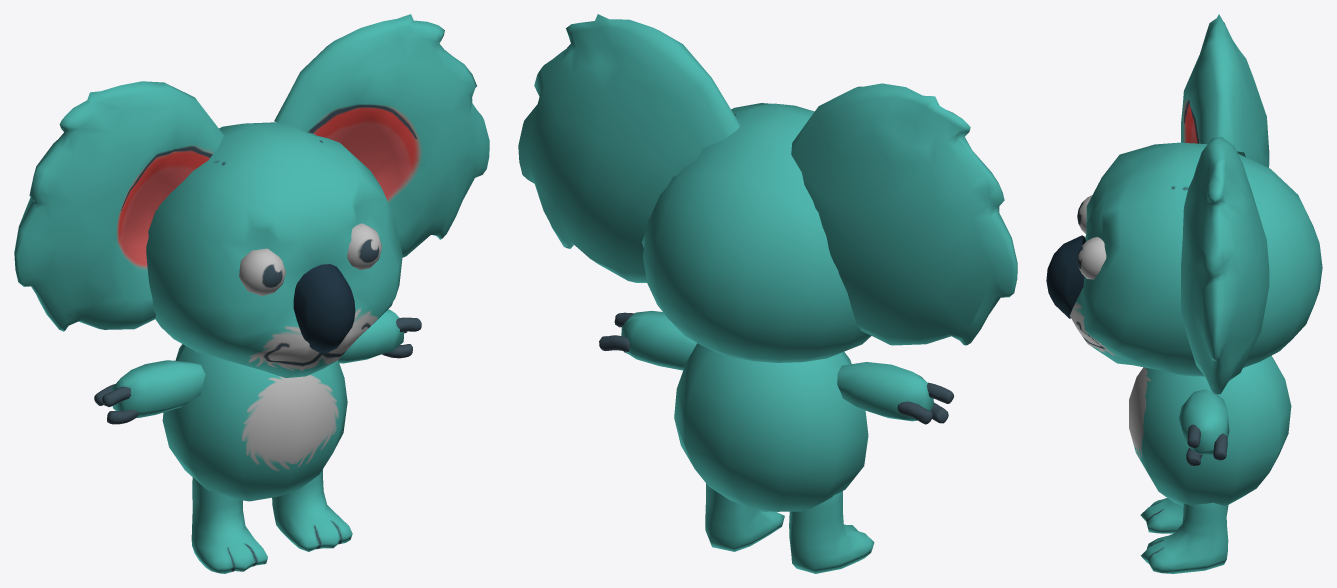
Rendered from Mesh_Koala.fbx.
The picture shows the model from 3 angles, left to right: view 1: azimuth 30°, elevation 25°; view 2: azimuth 150°, elevation 25°; view 3: azimuth 270°, elevation 25°; orthographic projection. The views are drawn at different scales.
Visible parts, largest first — view 1: Mesh_Koala2; view 2: Mesh_Koala2; view 3: Mesh_Koala2.
Part boxes in pixels (left/top/right/bottom): Mesh_Koala2: left=14, top=14, right=489, bottom=573; Mesh_Koala2: left=518, top=14, right=1017, bottom=573; Mesh_Koala2: left=1046, top=14, right=1322, bottom=573.
Bounding box in the file's own units: 632 × 616 × 337.
